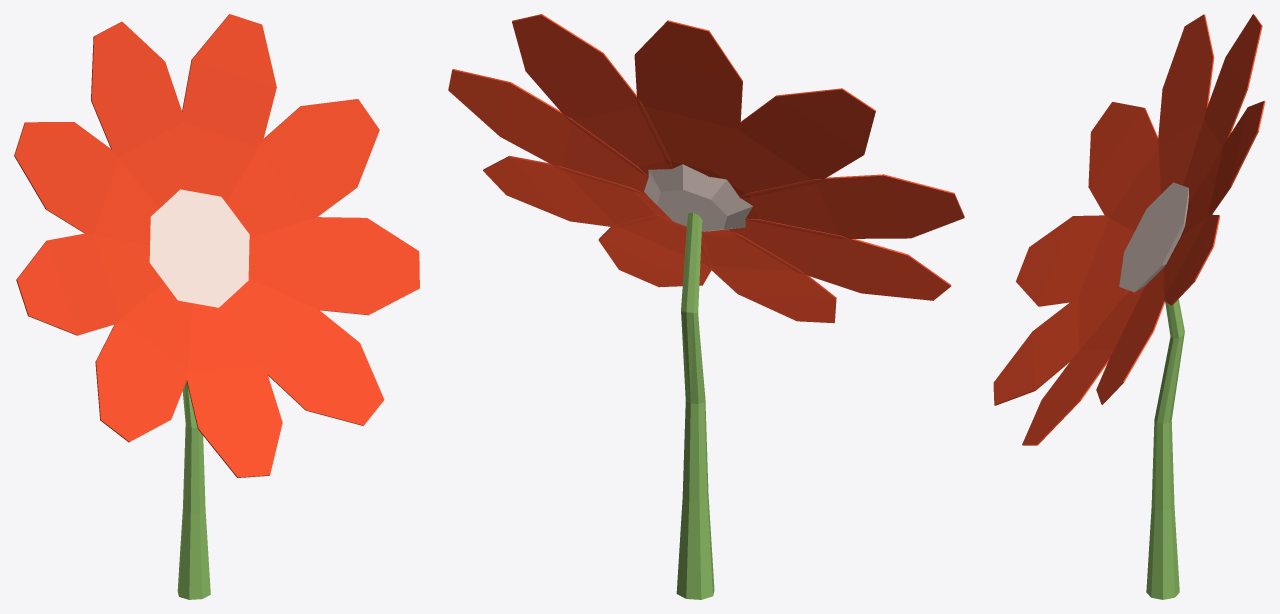
File: flower02_orange.fbx
3 renders of one model, left to right at view 1: azimuth 30°, elevation 25°; view 2: azimuth 150°, elevation 25°; view 3: azimuth 270°, elevation 25°, orthographic. The views are drawn at different scales.
Visible parts, largest first — view 1: flower02_orange_LOD0; view 2: flower02_orange_LOD0; view 3: flower02_orange_LOD0.
Boxes of the visible parts, bbox=[...] form: flower02_orange_LOD0: bbox=[14, 14, 419, 599]; flower02_orange_LOD0: bbox=[448, 14, 964, 599]; flower02_orange_LOD0: bbox=[993, 14, 1265, 599].
Size of what is drawn, in the model's own units: 76.59 by 97.27 by 43.24.
